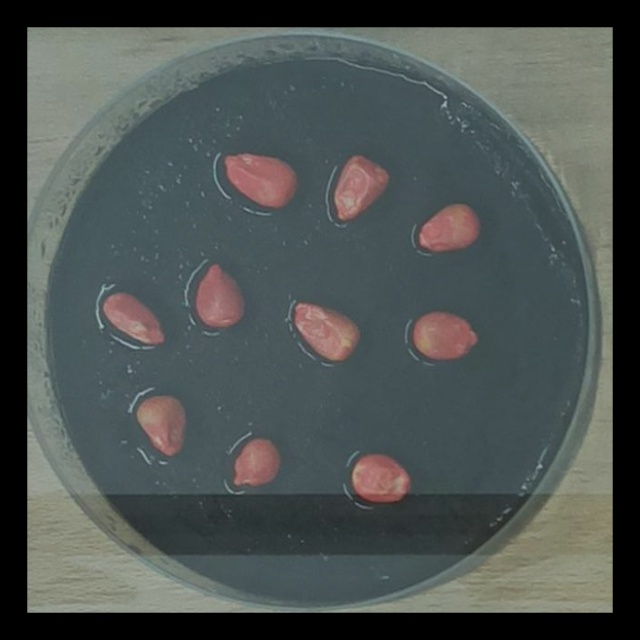Zea mays: (287, 294, 366, 367), (219, 146, 303, 212), (329, 148, 395, 227), (99, 285, 171, 352), (407, 304, 484, 364), (129, 386, 191, 460), (410, 197, 484, 259), (191, 256, 250, 333), (345, 447, 417, 509), (227, 429, 287, 493)
